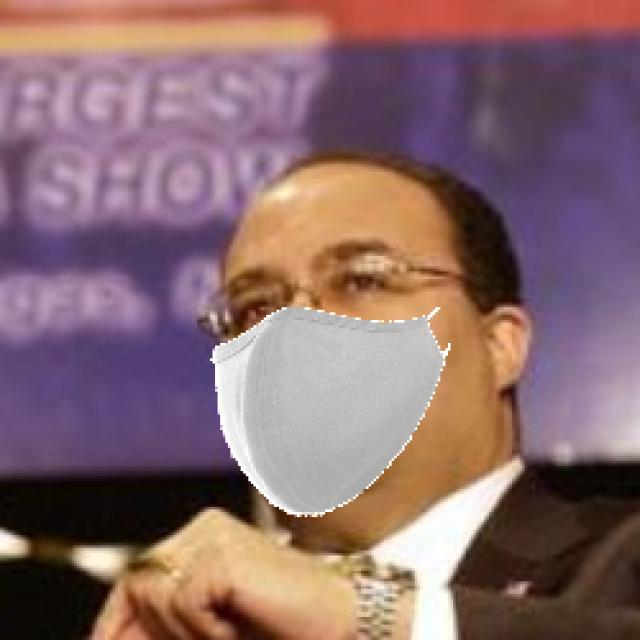mask: (178, 307, 465, 529)
